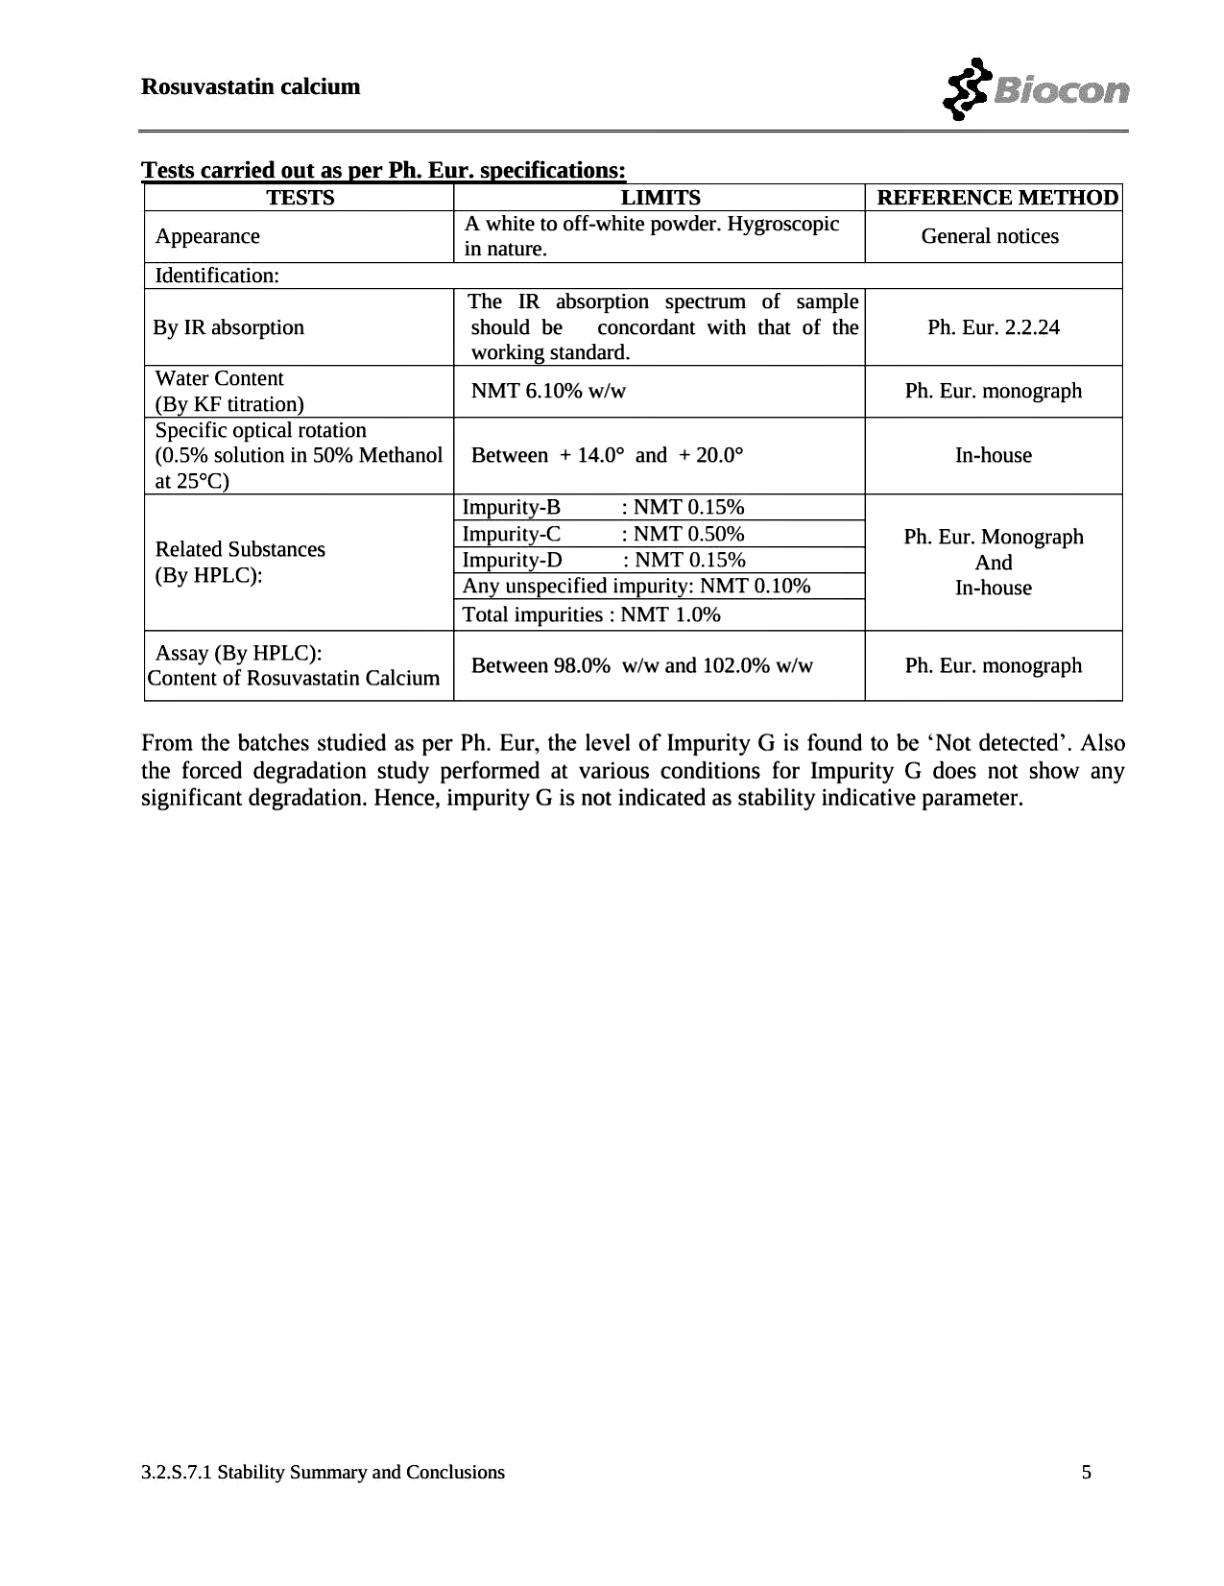merged_cells: (143, 179, 1124, 702)
